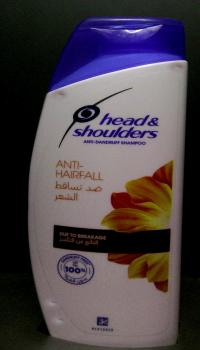dent_marginal: (41, 297, 65, 310), (48, 313, 70, 326), (166, 61, 186, 75), (53, 89, 72, 101)
